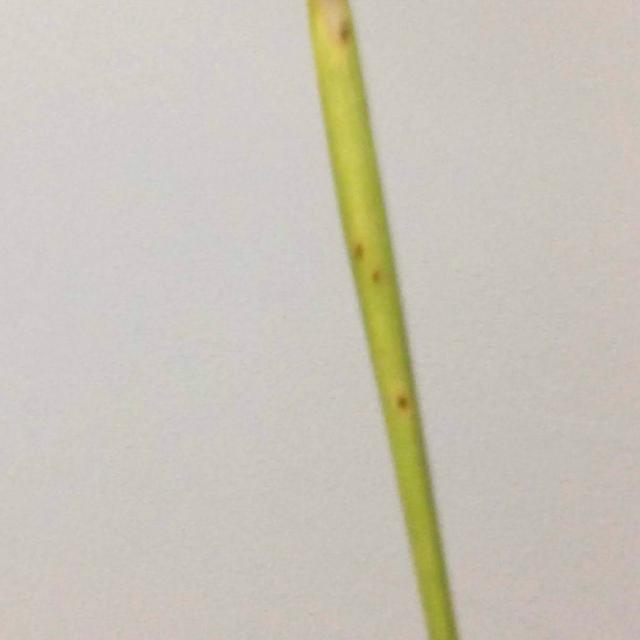brownspots: (346, 232, 386, 292), (326, 13, 359, 52), (390, 388, 416, 416)
